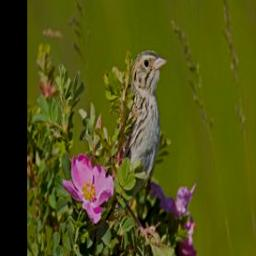Sparrow: (114, 43, 171, 207)
